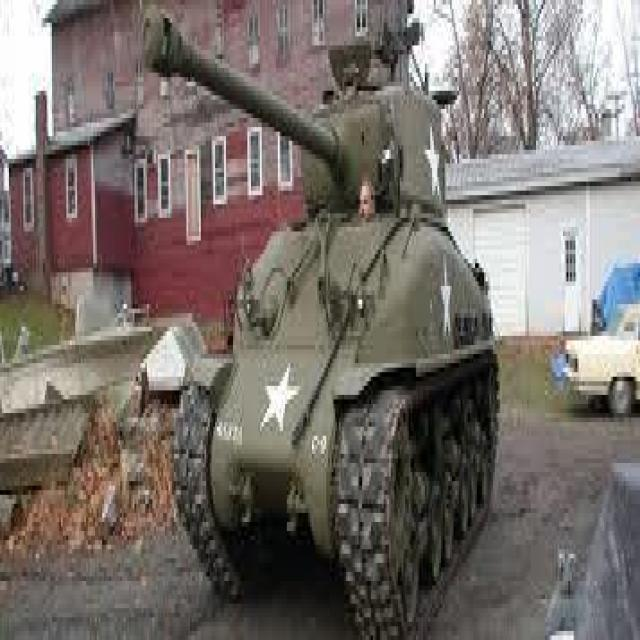Tanks: (156, 29, 506, 606)
